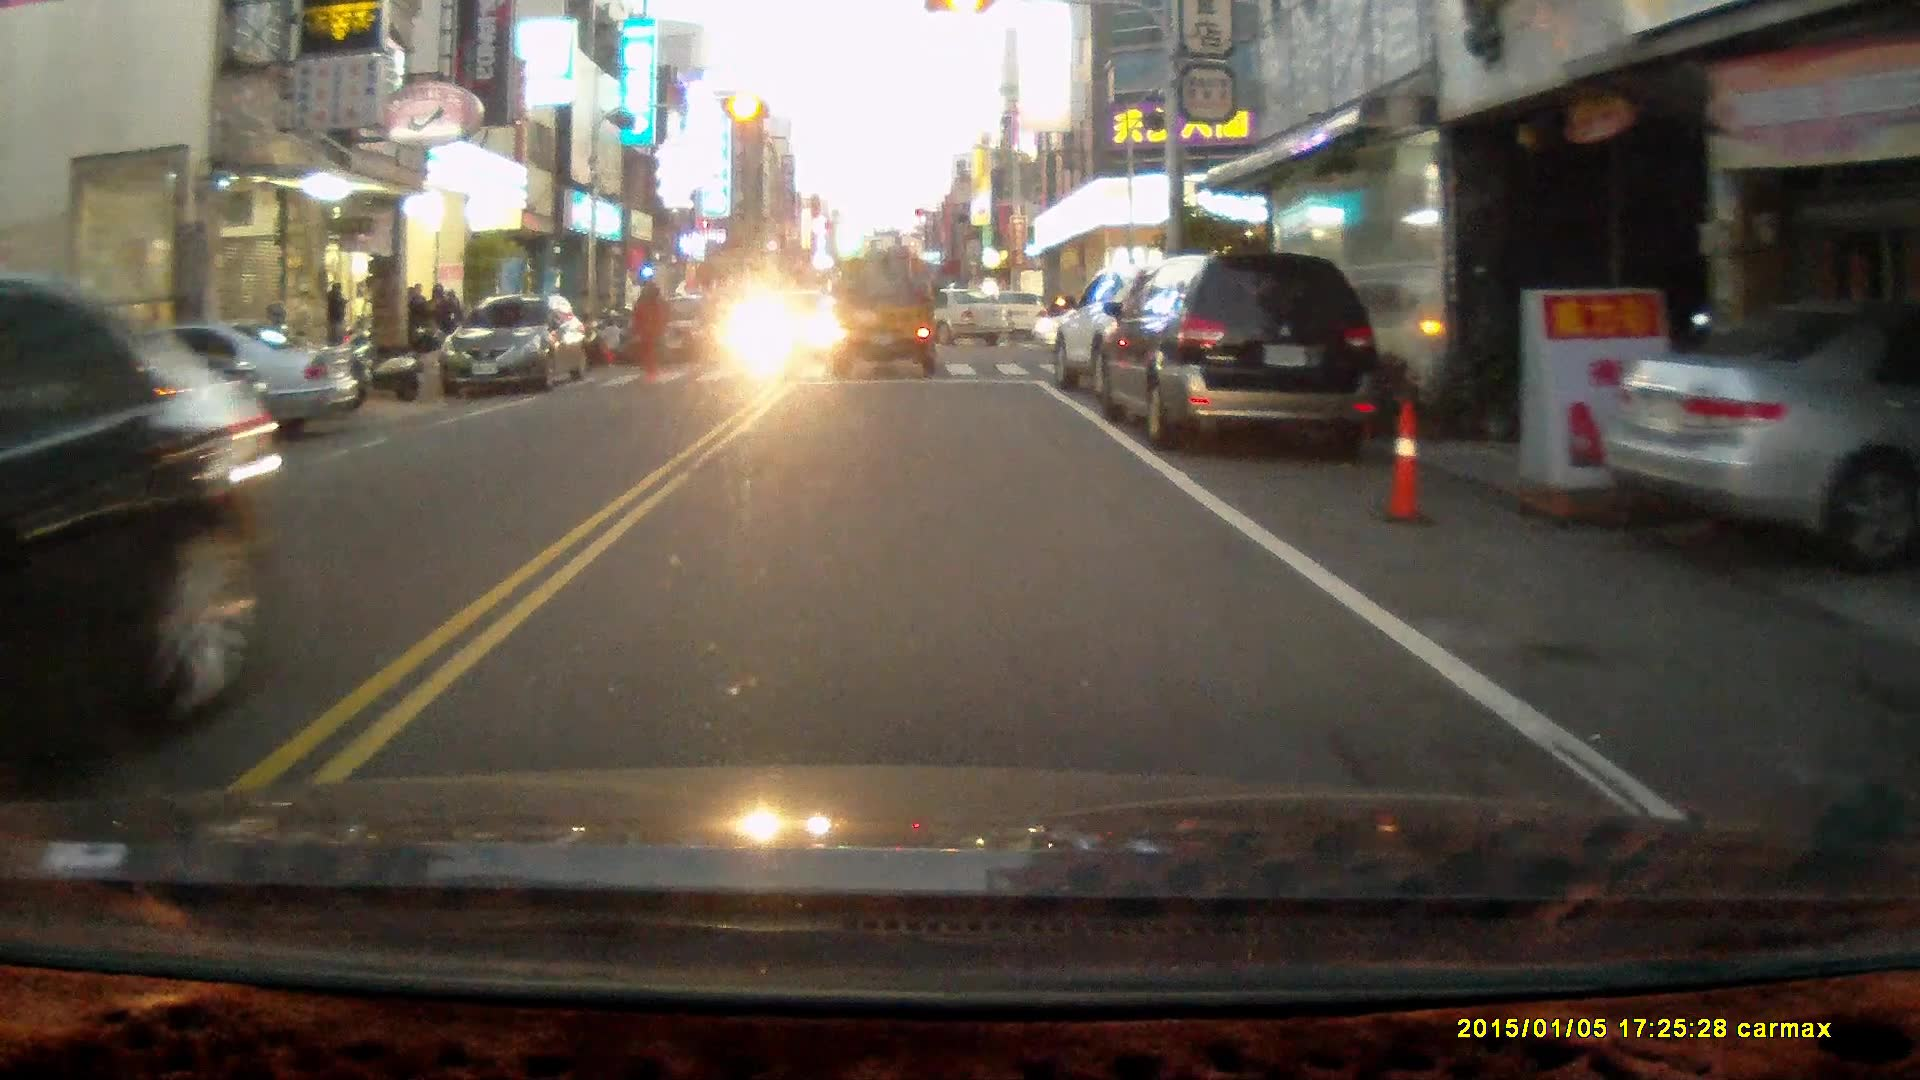pedestrian: (628, 279, 662, 385), (319, 279, 348, 362), (597, 318, 623, 373)
vehicle: (1, 294, 275, 791), (1605, 309, 1920, 540), (1092, 248, 1378, 454), (45, 326, 359, 441), (1051, 267, 1250, 417), (821, 236, 944, 385), (452, 300, 591, 400), (874, 291, 1014, 351), (637, 297, 731, 363)
